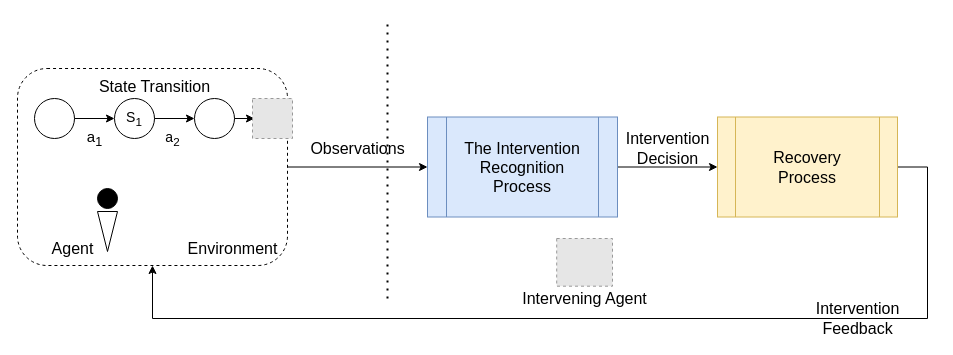
This 953x355 diagram has some shape labels left out. Grey dashed boxes stand in for pictures. The centre of each missing label's shape, as x and y in pixels:
"S 0" goes at [54,118].
"S 2" goes at [214,118].
